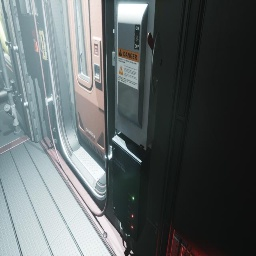EmergencyPhone ,: (36, 22, 48, 60)
FireAlarm ,: (32, 30, 39, 53)
NitrogenTank ,: (0, 90, 9, 103)
SafetySwitchPanel ,: (114, 0, 165, 151)
